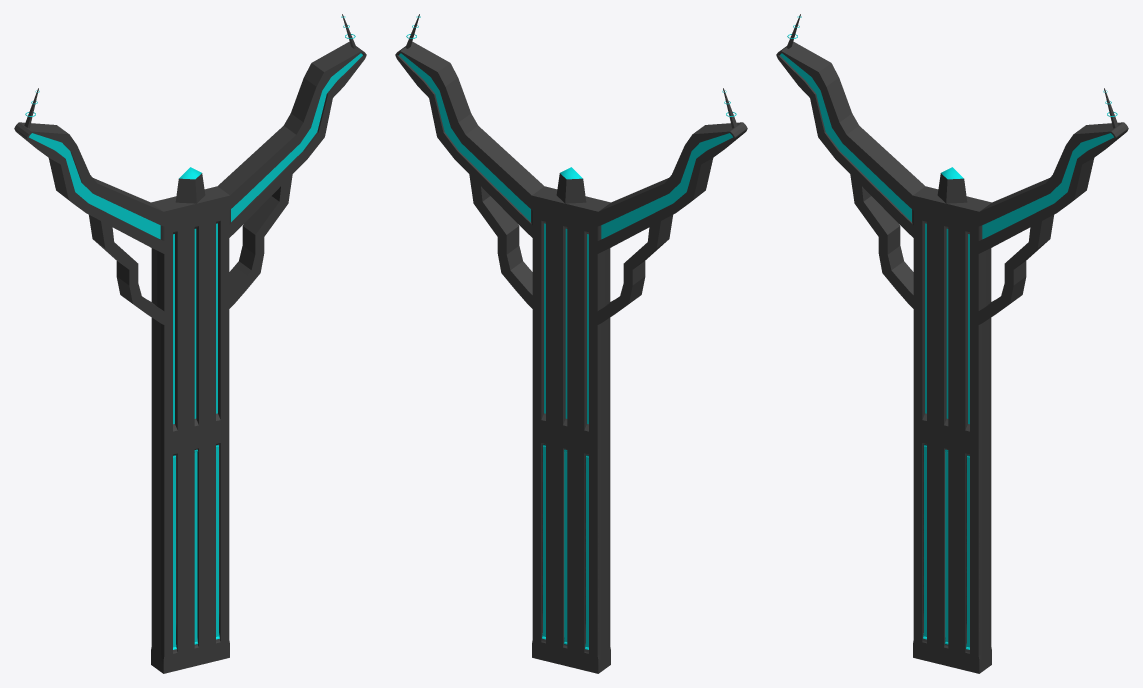
Rendered from telecom_structure.fbx.
3 views of the same model, side by side, from view 1: azimuth 30°, elevation 25°; view 2: azimuth 150°, elevation 25°; view 3: azimuth 330°, elevation 25° (orthographic).
Parts seen in each view (by area): view 1: telecom; view 2: telecom; view 3: telecom.
Part boxes in pixels (box(x1,y1,x2,y2)): telecom: box(14, 14, 366, 673); telecom: box(395, 14, 747, 673); telecom: box(776, 14, 1128, 673).
Bounding box in the file's own units: 21.24 × 36.47 × 1.38.
